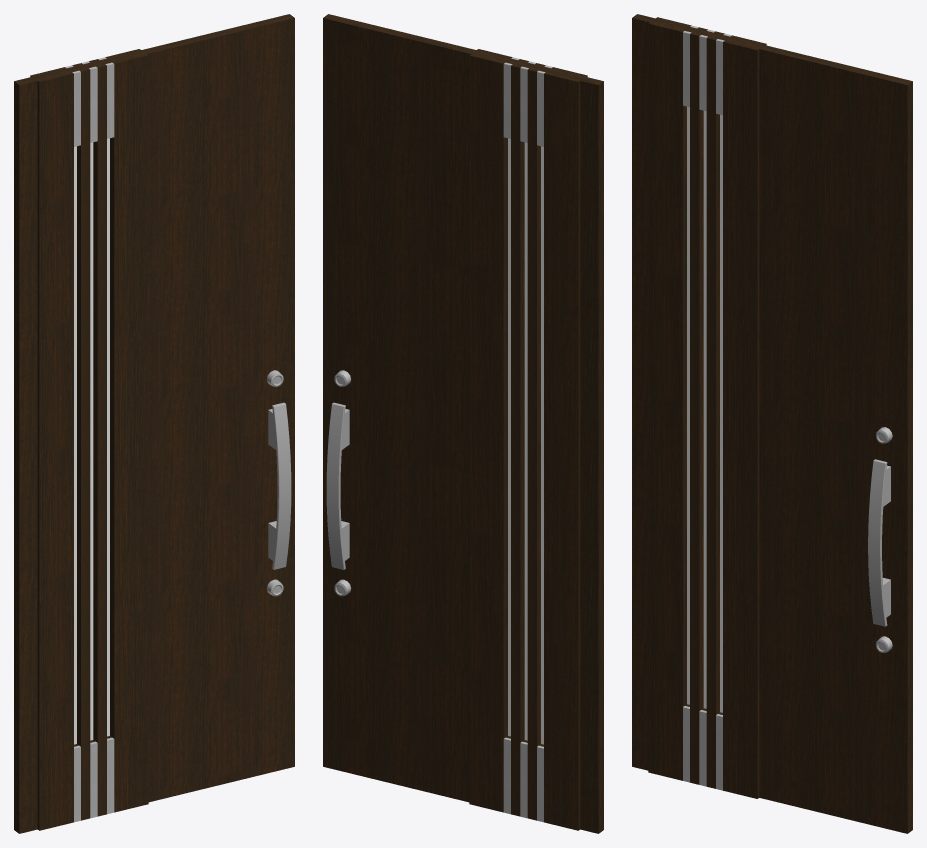
File: CubeHouse_1_door_1.fbx
3 views of the same model, side by side, from view 1: azimuth 30°, elevation 25°; view 2: azimuth 150°, elevation 25°; view 3: azimuth 330°, elevation 25° (orthographic).
Parts seen in each view (by area): view 1: door_1; view 2: door_1; view 3: door_1.
Part boxes in pixels (bbox=[...]): door_1: bbox=[14, 14, 294, 833]; door_1: bbox=[323, 14, 603, 833]; door_1: bbox=[632, 14, 912, 833].
Size of the model in its own units: 0.882 by 2.29 by 0.162.
4 materials, 2 textured.
